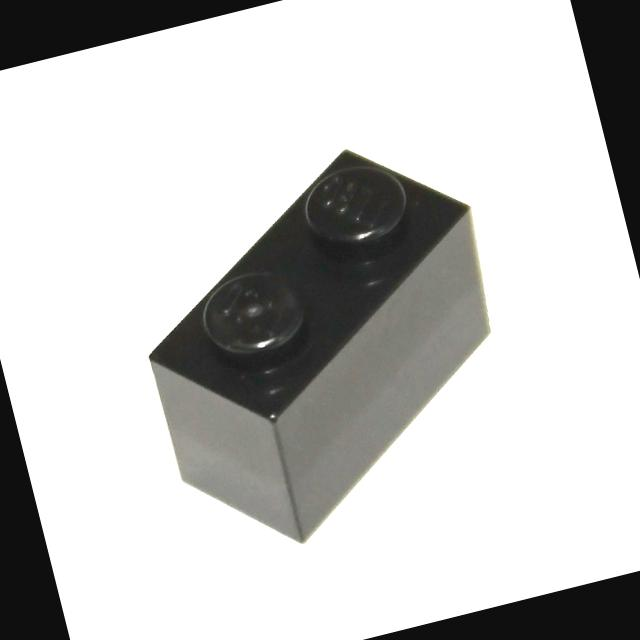1x2: (149, 150, 489, 541)
